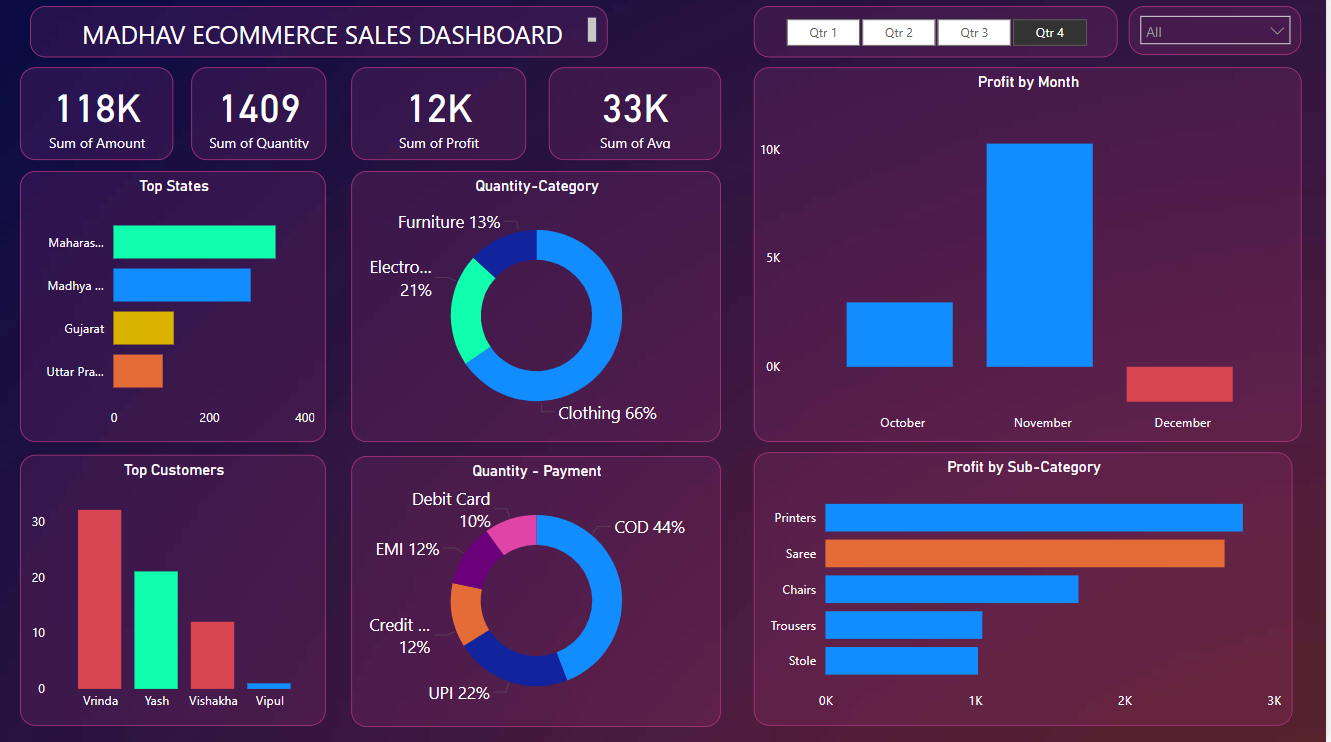

The page's visual inventory and layout, read from the dashboard file:
{"tool":"powerbi","page":{"name":"Page 1","canvas":[1280,720],"ordinal":0},"visuals":[{"type":"columnChart","title":" Profit by Month","fields":{"Category":["Orders.Order Date.Variation.Date Hierarchy.Month"],"Y":["Details.Profit"]},"box":[727.5,68.8,528.4,361.9],"z":0},{"type":"barChart","title":"Profit by Sub-Category","fields":{"Category":["Details.Sub-Category"],"Y":["Details.Profit"]},"box":[727.5,440.4,520,264.2],"z":1000},{"type":"donutChart","title":" Quantity-Category","fields":{"Category":["Details.Category"],"Y":["Details.Quantity"]},"box":[339,168.9,357.1,261.8],"z":2000},{"type":"donutChart","title":"Quantity - Payment","fields":{"Category":["Details.PaymentMode"],"Y":["Details.Quantity"]},"box":[339,444,357.1,261.8],"z":3000},{"type":"barChart","title":"Top States","fields":{"Category":["Orders.State"],"Y":["Details.Quantity"]},"box":[19.3,168.9,295.6,261.8],"z":4000},{"type":"columnChart","title":"Top Customers","fields":{"Y":["Details.Quantity"],"Category":["Orders.CustomerName"]},"box":[19.3,442.8,295.6,261.8],"z":5000},{"type":"card","fields":{"Values":["Details.Amount"]},"box":[19.3,68.8,148.4,89.3],"z":6000},{"type":"card","fields":{"Values":["Details.Quantity"]},"box":[184.6,68.8,130.3,89.3],"z":7000},{"type":"card","fields":{"Values":["Details.Profit"]},"box":[339,68.8,168.9,89.3],"z":8000},{"type":"card","fields":{"Values":["Details.Avg"]},"box":[529.6,68.8,166.5,89.3],"z":9000},{"type":"textbox","box":[29,9.7,557.4,49.5],"z":10000},{"type":"slicer","fields":{"Values":["Orders.State"]},"box":[1089.4,9.7,166.5,47.1],"z":11000},{"type":"slicer","fields":{"Values":["Orders.Order Date.Variation.Date Hierarchy.Quarter"]},"box":[727.5,9.7,351.1,49.5],"z":12000}]}

Visuals, with their boxes in screenshot pixels (x1, y1, x2, y2), scaled from the page's 1280x720 canvas onto the 1331x742 screenshot:
" Profit by Month" columnChart: BBox(756, 71, 1306, 444)
"Profit by Sub-Category" barChart: BBox(756, 454, 1297, 726)
" Quantity-Category" donutChart: BBox(353, 174, 724, 444)
"Quantity - Payment" donutChart: BBox(353, 458, 724, 727)
"Top States" barChart: BBox(20, 174, 327, 444)
"Top Customers" columnChart: BBox(20, 456, 327, 726)
card - Details.Amount: BBox(20, 71, 174, 163)
card - Details.Quantity: BBox(192, 71, 327, 163)
card - Details.Profit: BBox(353, 71, 528, 163)
card - Details.Avg: BBox(551, 71, 724, 163)
textbox: BBox(30, 10, 610, 61)
slicer - Orders.State: BBox(1133, 10, 1306, 59)
slicer - Orders.Order Date.Variation.Date Hierarchy.Quarter: BBox(756, 10, 1122, 61)
